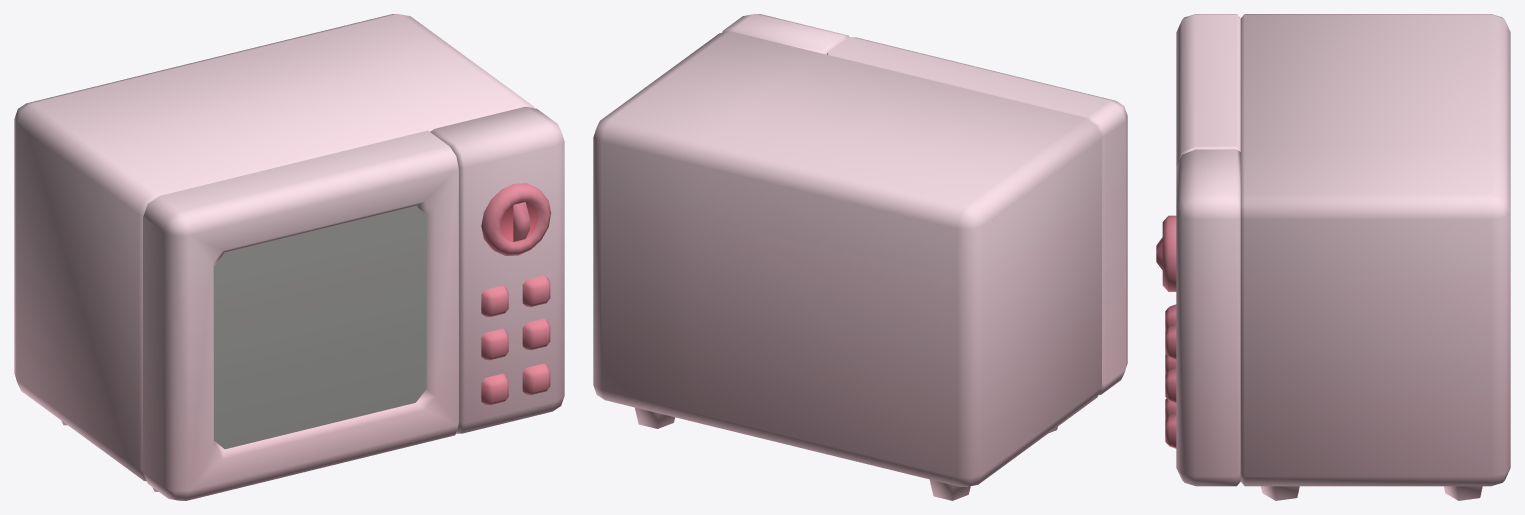
The model's file is microwave_01.glb.
3 views of the same model, side by side, from view 1: azimuth 30°, elevation 25°; view 2: azimuth 150°, elevation 25°; view 3: azimuth 270°, elevation 25° (orthographic). The views are drawn at different scales.
Parts seen in each view (by area): view 1: Microwave_01, Microwave_01_Door; view 2: Microwave_01, Microwave_01_Door; view 3: Microwave_01, Microwave_01_Door.
Boxes of the visible parts, x1,y1,x2,y2 form: Microwave_01: (14,14,564,491); Microwave_01_Door: (143,130,459,500); Microwave_01: (593,14,1101,500); Microwave_01_Door: (827,37,1127,395); Microwave_01: (1156,14,1510,500); Microwave_01_Door: (1176,14,1240,166).
Bounding box in the file's own units: 0.4289 × 0.3219 × 0.3281.
Materials: 1 (1 with a texture image).
